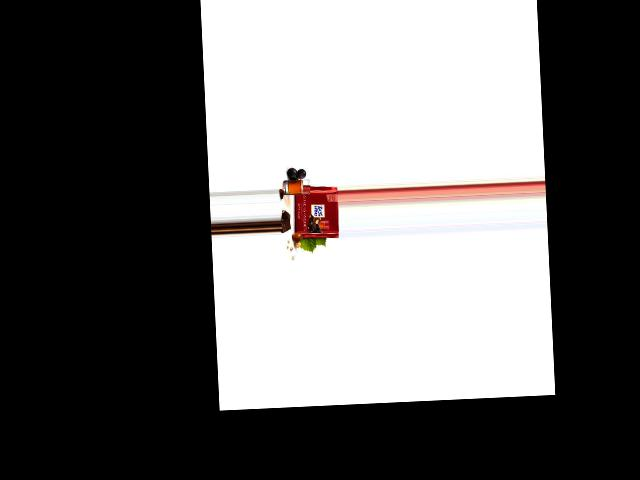chocolate: (293, 186, 339, 241)
